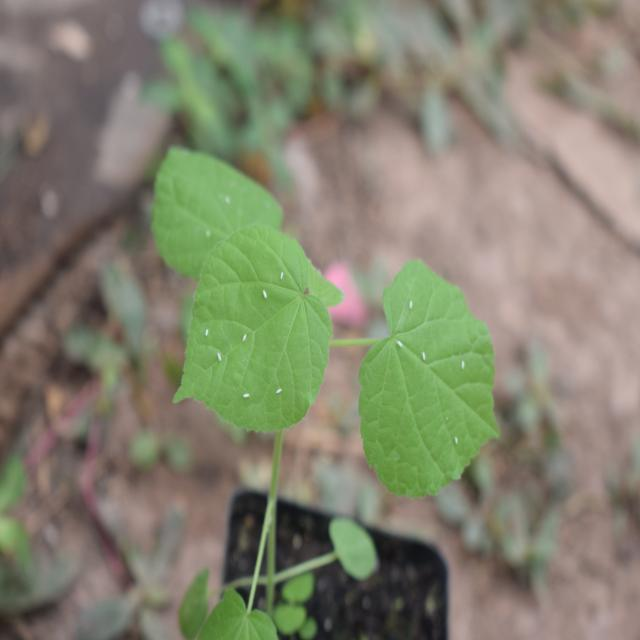abutilon theophrasti: (140, 126, 502, 509)
